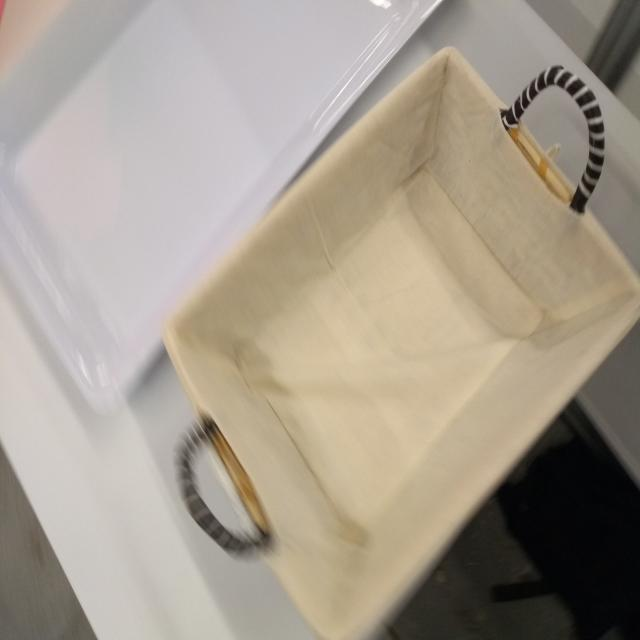basket: (165, 41, 638, 640)
